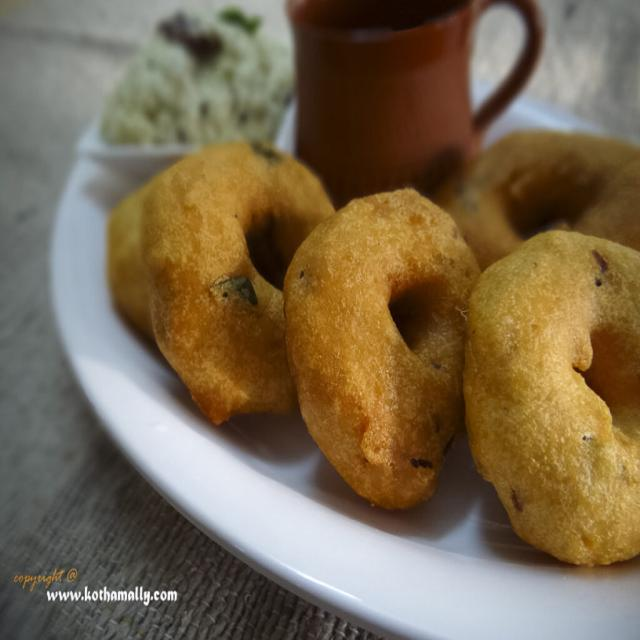MEDU VADA: (284, 187, 480, 510), (466, 228, 639, 570), (142, 143, 333, 414)
